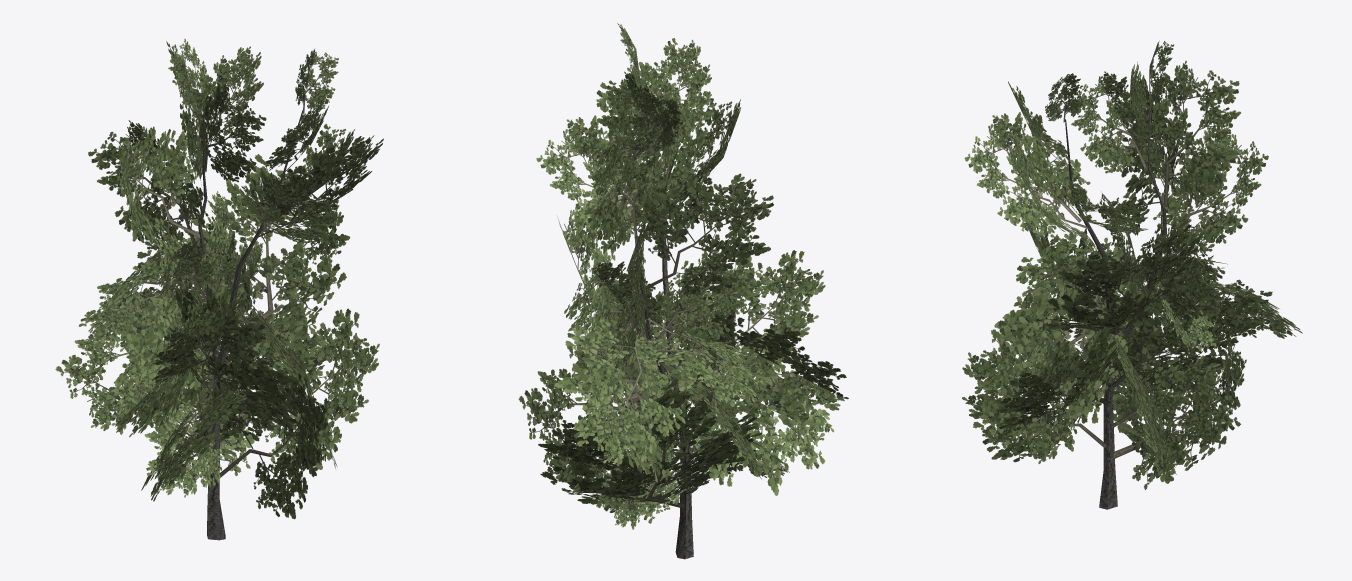
The model's file is tree8.glb.
The picture shows the model from 3 angles, left to right: view 1: azimuth 30°, elevation 25°; view 2: azimuth 150°, elevation 25°; view 3: azimuth 270°, elevation 25°; orthographic projection. The views are drawn at different scales.
Visible parts, largest first — view 1: Tree-02-4; view 2: Tree-02-4; view 3: Tree-02-4.
Part boxes in pixels (x1,y1,x2,y2): Tree-02-4: (55,38,383,540); Tree-02-4: (518,23,848,559); Tree-02-4: (962,41,1302,509).
Size of the model in its own units: 3.84 by 5.49 by 4.4.
3 materials, 3 textured.
